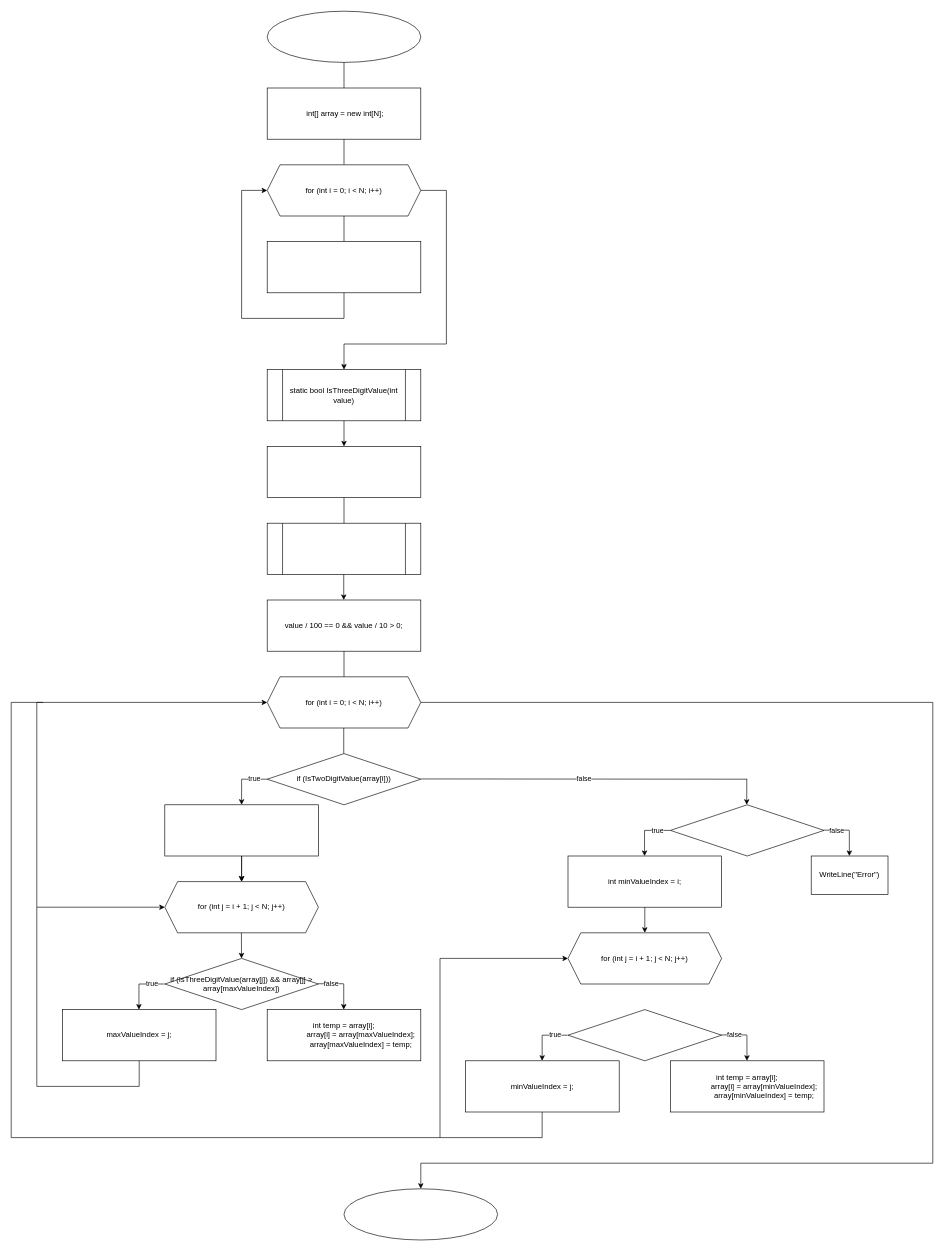
This 945x1251 diagram has some shape labels left out. The centre of each missing label's shape, as x and y in pixels:
"array[i] = rnd.Next(0, 200);" goes at point (344, 267).
"else if (IsTwoDigitValue(array[i]))" goes at point (747, 830).
"end" goes at point (420, 1214).
"if (IsTwoDigitValue(array[j]) && array[j] < array[minValueIndex])" goes at point (644, 1035).
"int maxValueIndex = i;" goes at point (241, 830).
"start" goes at point (344, 36).
"static bool IsTwoDigitValue(int value)" goes at point (344, 548).
"value / 100 > 0 && value / 1000 == 0;" goes at point (344, 472).
